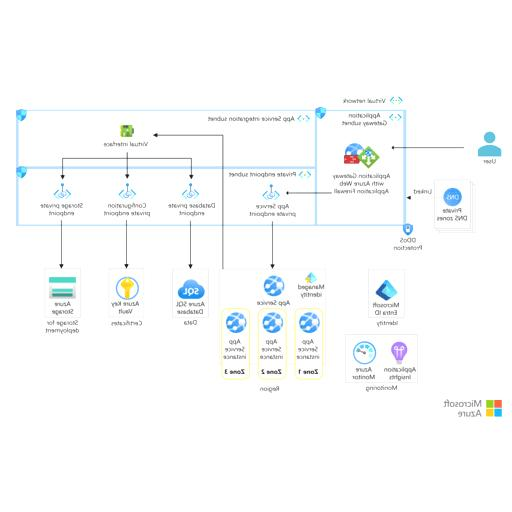actor: (478, 128, 502, 162)
api_gateway: (34, 164, 159, 169), (152, 130, 229, 136), (221, 138, 224, 261), (404, 145, 453, 150), (288, 191, 332, 196), (272, 220, 276, 261), (126, 220, 130, 261), (62, 220, 66, 261), (126, 138, 130, 169), (189, 220, 192, 261), (413, 196, 429, 201), (62, 162, 66, 176), (189, 162, 192, 176)
compute: (332, 140, 390, 188)
data_flow: (352, 336, 411, 380), (434, 183, 472, 227), (368, 278, 406, 322), (109, 278, 147, 322), (255, 183, 293, 216), (172, 183, 210, 216), (109, 183, 147, 216), (45, 183, 83, 216), (109, 119, 147, 147), (400, 224, 418, 247)
database_storage: (237, 280, 311, 375)
network_security: (172, 278, 210, 322), (45, 278, 83, 322)
trust_boundary: (16, 108, 408, 226), (16, 108, 316, 162), (16, 172, 316, 226), (317, 108, 405, 226), (232, 268, 316, 388), (347, 329, 416, 388), (364, 270, 410, 329), (168, 270, 214, 329), (105, 270, 151, 329), (41, 270, 87, 329)
